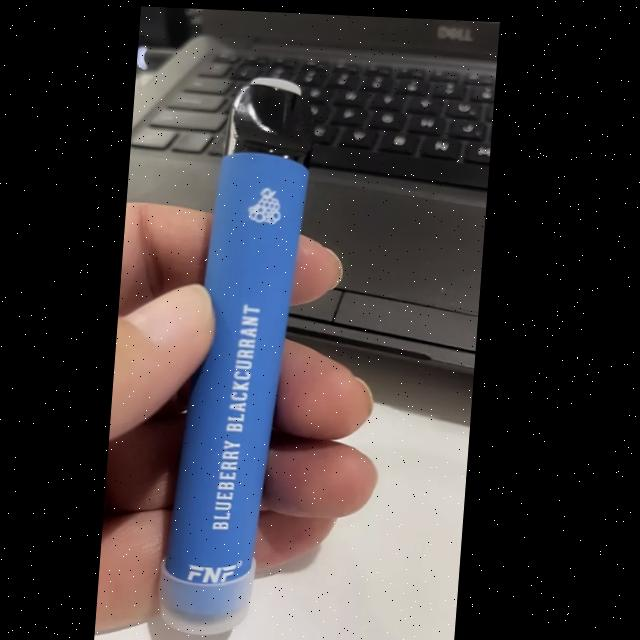vape: (164, 73, 319, 639)
